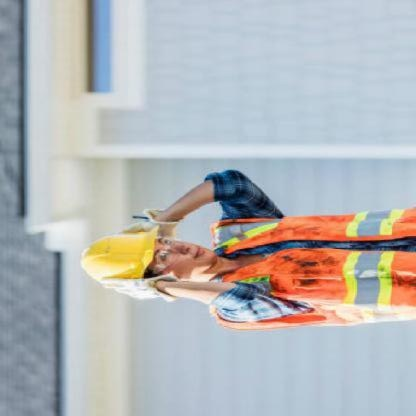vest: (209, 211, 412, 330)
yellow: (78, 219, 160, 292)
